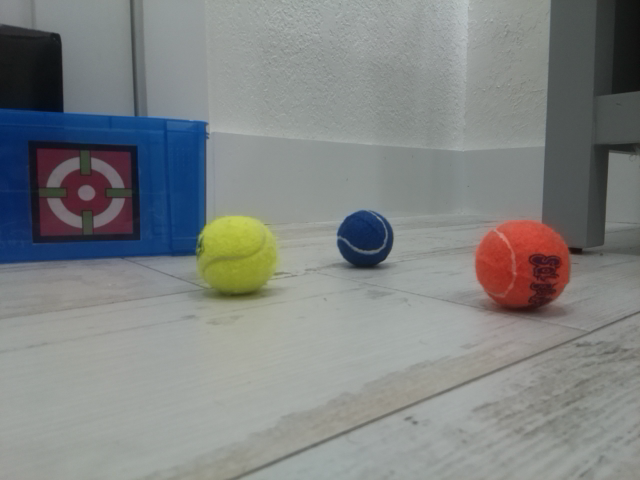blue-ball: (336, 209, 395, 269)
drop-bin: (28, 141, 141, 243)
orange-ball: (473, 219, 573, 313)
yellow-ball: (195, 213, 279, 298)
